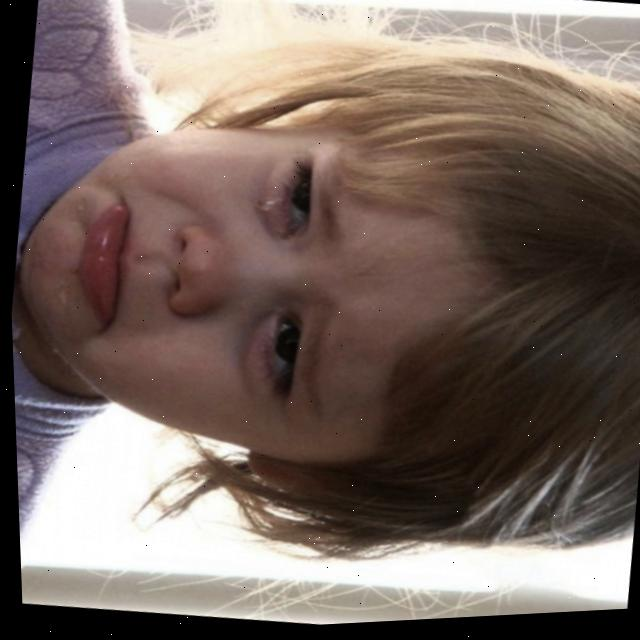sad: (3, 69, 467, 522)
